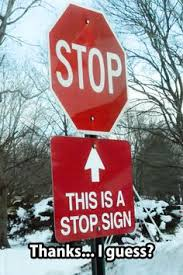stop_sign: (48, 3, 129, 135)
